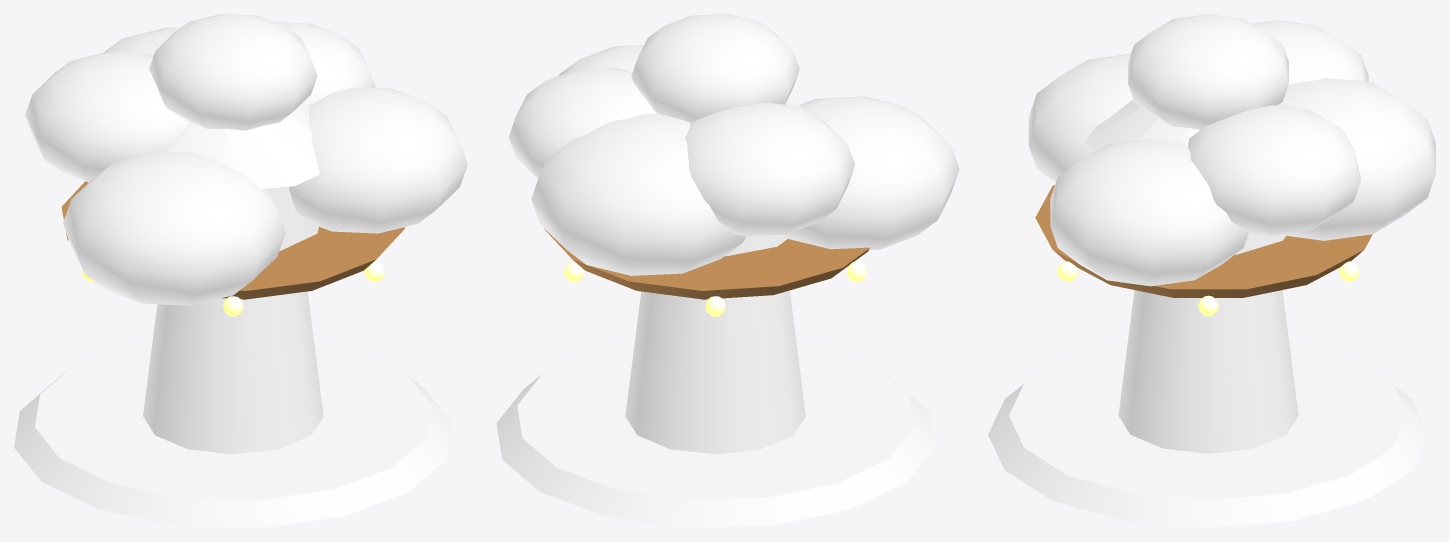
The model's file is enchanted-treehouse.glb.
The picture shows the model from 3 angles, left to right: view 1: azimuth 30°, elevation 25°; view 2: azimuth 150°, elevation 25°; view 3: azimuth 270°, elevation 25°; orthographic projection.
Visible parts, largest first — view 1: Mesh_ffffff (×10), Mesh_lightWood, Mesh_glowWarm; view 2: Mesh_ffffff (×9), Mesh_lightWood, Mesh_glowWarm; view 3: Mesh_ffffff (×10), Mesh_lightWood, Mesh_glowWarm.
Part boxes in pixels (bbox=[...]): Mesh_ffffff (×10): bbox=[14, 14, 467, 527]; Mesh_lightWood: bbox=[61, 181, 404, 299]; Mesh_glowWarm: bbox=[82, 261, 384, 316]; Mesh_ffffff (×9): bbox=[496, 14, 959, 527]; Mesh_lightWood: bbox=[544, 228, 869, 299]; Mesh_glowWarm: bbox=[564, 261, 866, 316]; Mesh_ffffff (×10): bbox=[988, 14, 1435, 527]; Mesh_lightWood: bbox=[1035, 185, 1372, 297]; Mesh_glowWarm: bbox=[1057, 261, 1359, 316].
Bounding box in the file's own units: 8.44 × 8.61 × 8.53.
